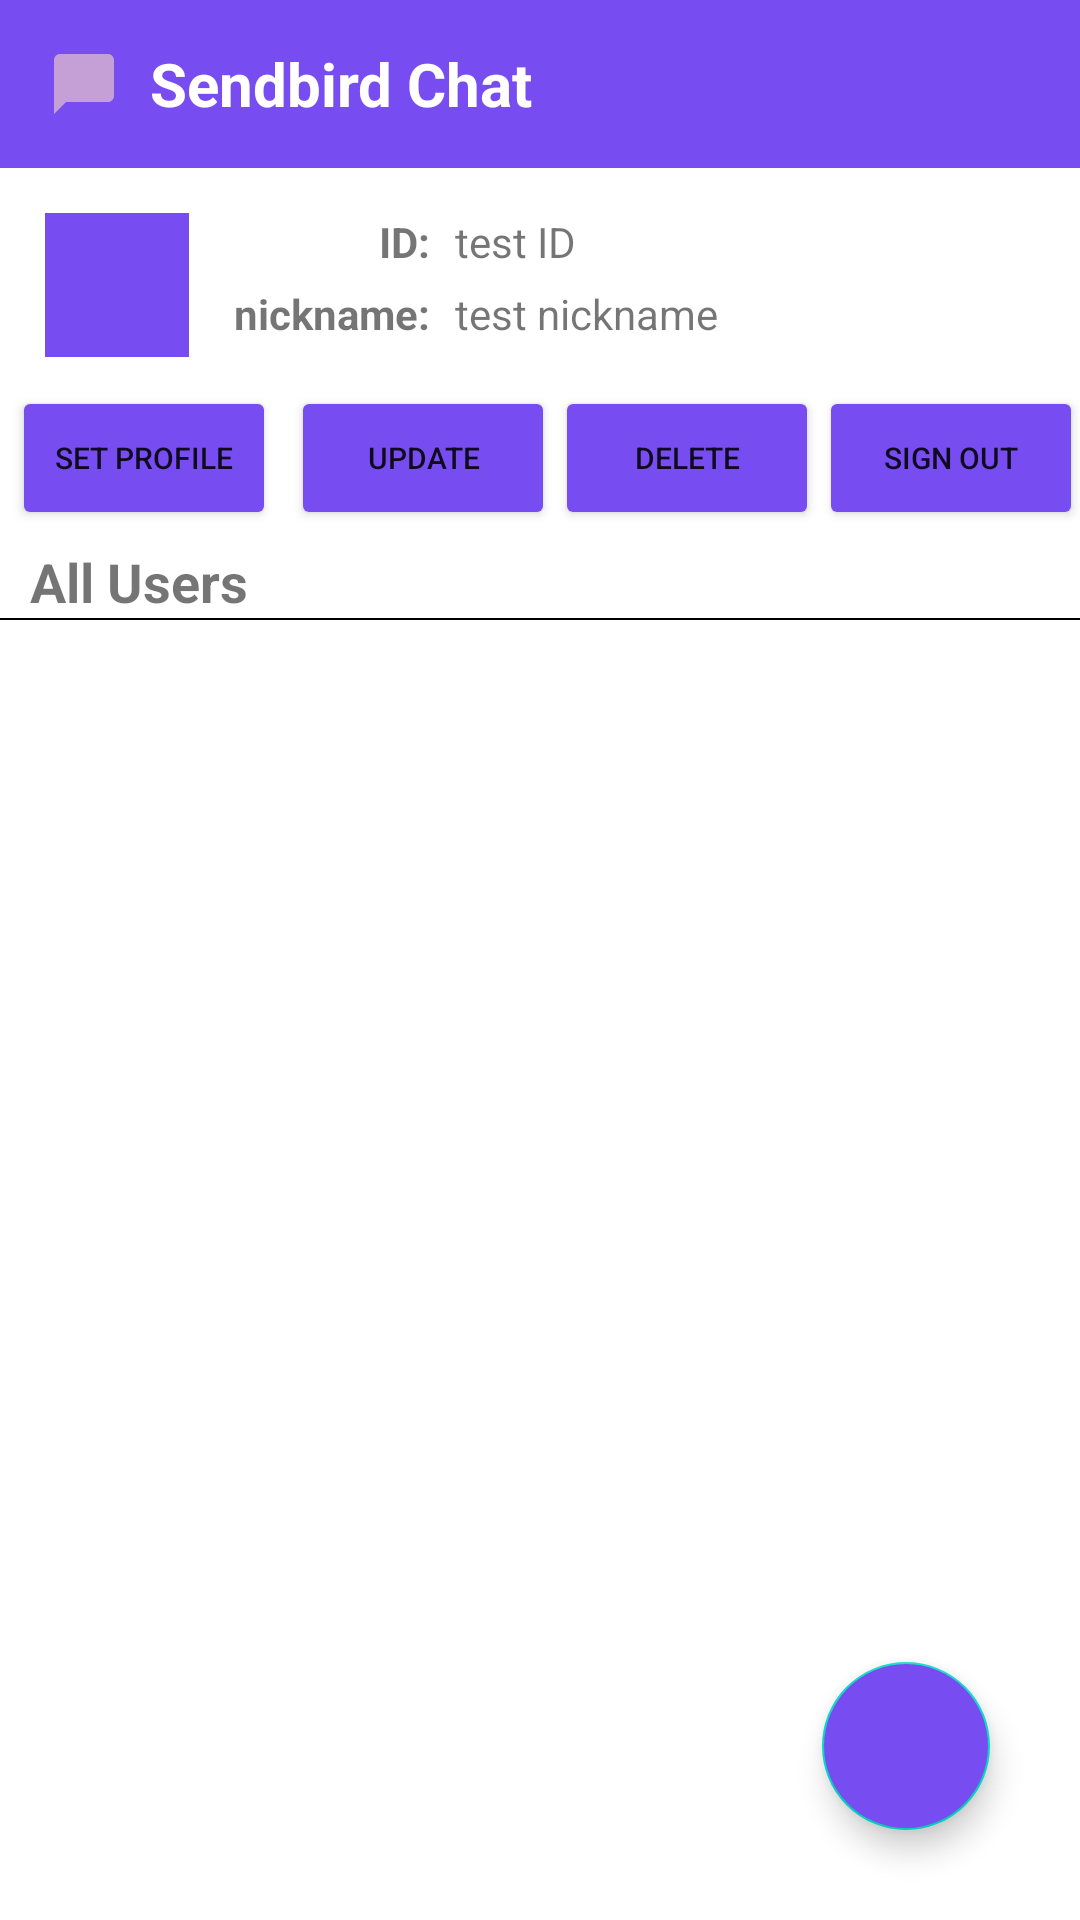

Where to tap for icons on this 1080 × 1920 app screen, as (x=x, y=y):
chat bubble: (x=84, y=84)
